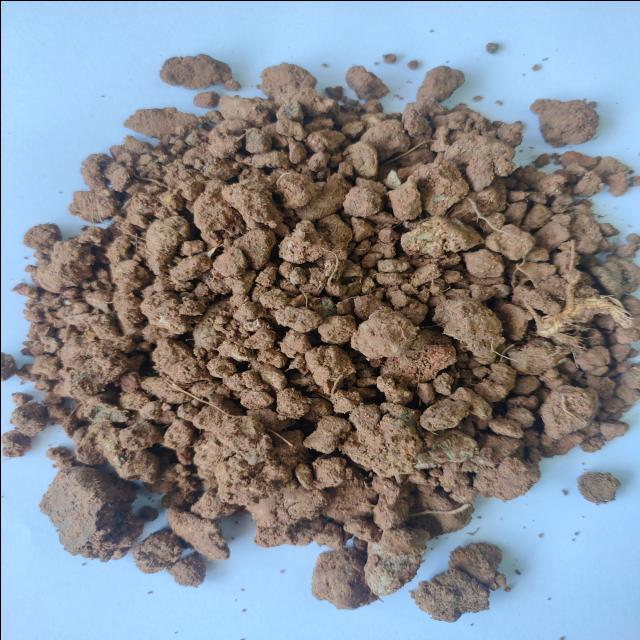soil: (91, 154, 589, 497)
